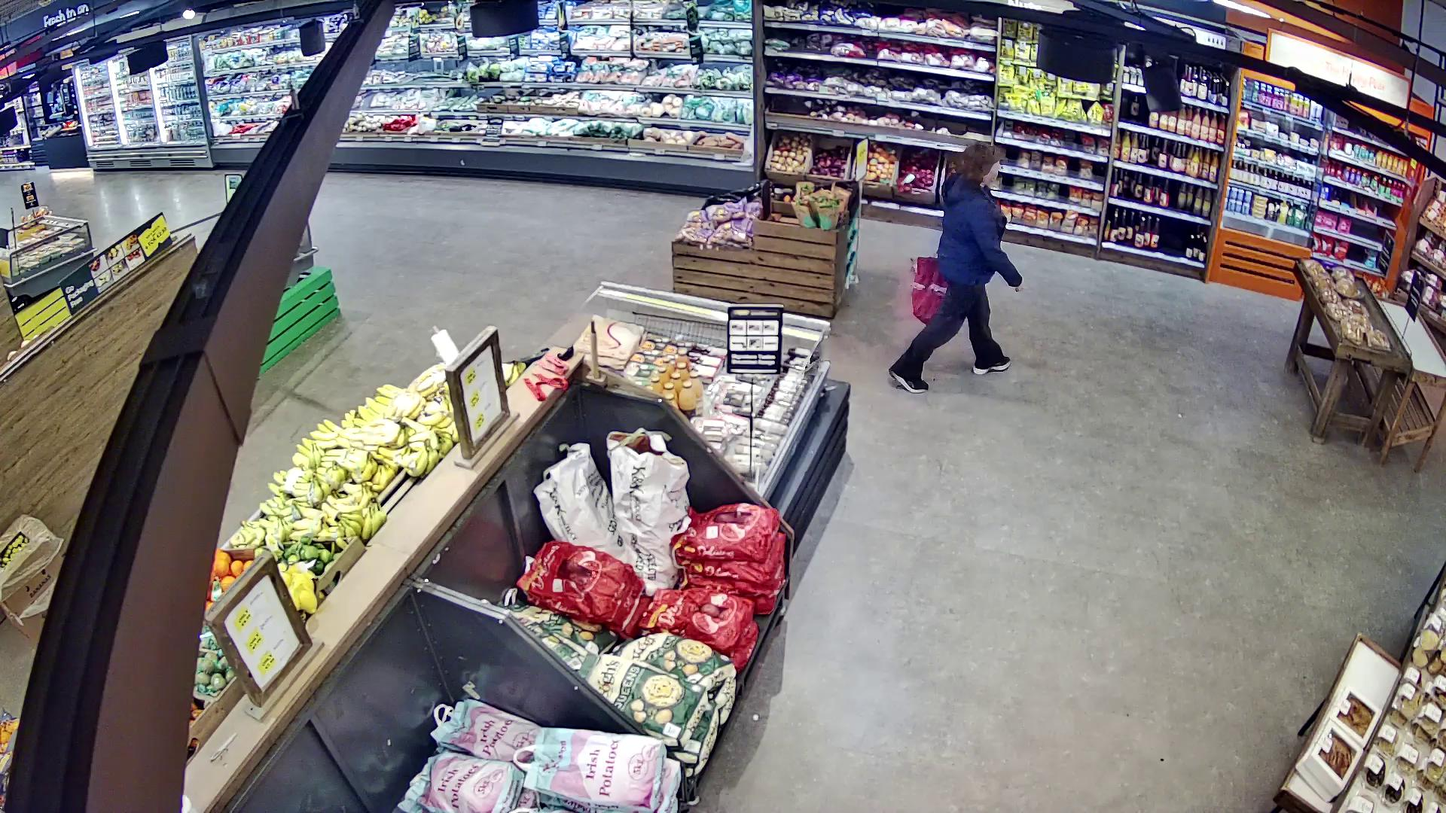filled-shopping-bags: (911, 256, 952, 325)
person: (889, 143, 1024, 394)
person-with-filled-shopping-bag-s-: (889, 142, 1024, 393)
